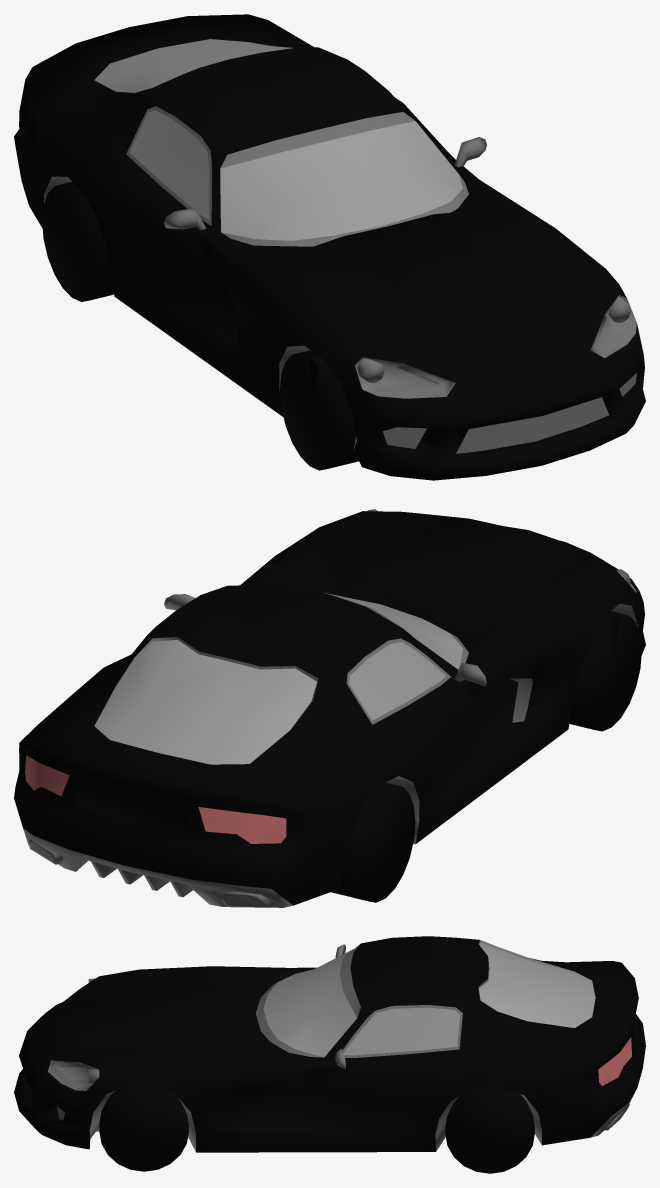
Rendered from Car_45_LOD1.FBX.
3 views of the same model, one above another, from view 1: azimuth 30°, elevation 25°; view 2: azimuth 150°, elevation 25°; view 3: azimuth 270°, elevation 25° (orthographic). The views are drawn at different scales.
Parts seen in each view (by area): view 1: Body_45_LOD1, Glass_45_LOD1, Matte_45_LOD1, Wheel_R_LOD1, Wheel_Back_R_LOD1; view 2: Body_45_LOD1, Glass_45_LOD1, Matte_45_LOD1, Wheel_Back_R_LOD1, Wheel_R_LOD1, Taillights_45_LOD1; view 3: Body_45_LOD1, Glass_45_LOD1, Wheel_L_LOD1, Wheel_Back_L_LOD1, Matte_45_LOD1, Taillights_45_LOD1.
Boxes of the visible parts, x1,y1,x2,y2 form: Body_45_LOD1: (14, 14, 645, 480); Glass_45_LOD1: (94, 39, 462, 240); Matte_45_LOD1: (44, 42, 636, 453); Wheel_R_LOD1: (280, 350, 358, 470); Wheel_Back_R_LOD1: (42, 182, 114, 301); Body_45_LOD1: (14, 511, 645, 905); Glass_45_LOD1: (94, 594, 462, 764); Matte_45_LOD1: (23, 509, 637, 907); Wheel_Back_R_LOD1: (331, 782, 415, 902); Wheel_R_LOD1: (569, 611, 641, 731); Taillights_45_LOD1: (25, 755, 286, 843); Body_45_LOD1: (14, 936, 645, 1152); Glass_45_LOD1: (263, 942, 595, 1057); Wheel_L_LOD1: (99, 1084, 188, 1171); Wheel_Back_L_LOD1: (445, 1086, 534, 1173); Matte_45_LOD1: (48, 940, 635, 1152); Taillights_45_LOD1: (598, 1037, 631, 1085).
Size of the model in its own units: 1.97 by 1.21 by 4.48.
